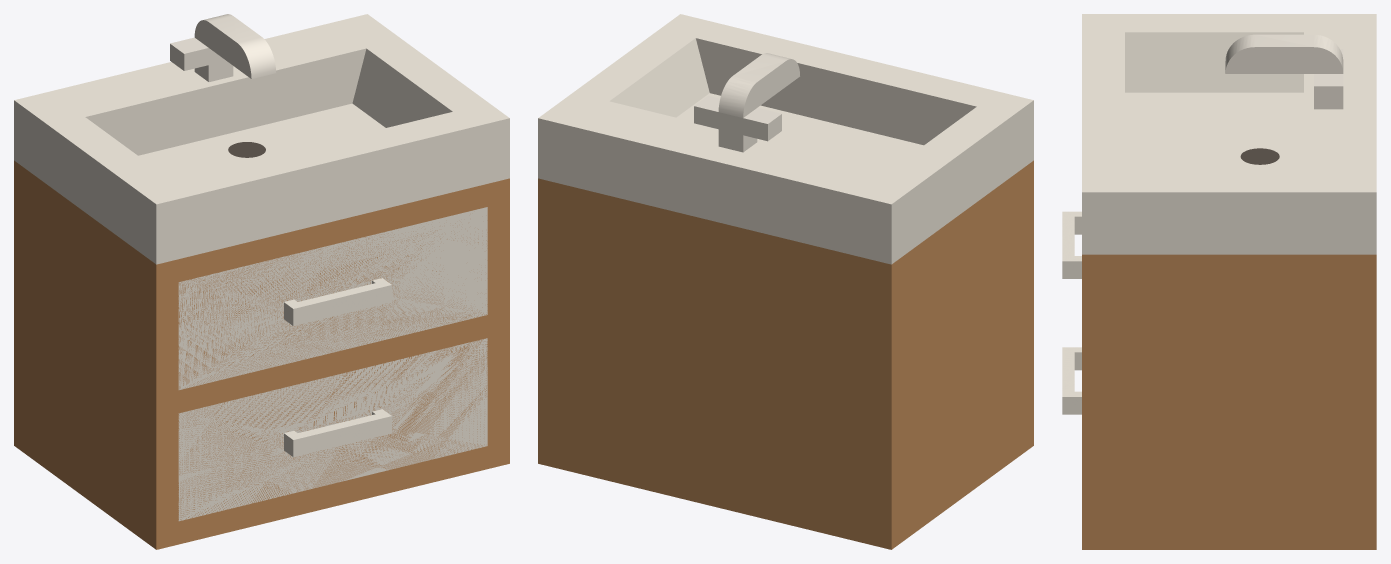
The model's file is kitBathroomCabinetDrawer.glb.
The picture shows the model from 3 angles, left to right: view 1: azimuth 30°, elevation 25°; view 2: azimuth 150°, elevation 25°; view 3: azimuth 270°, elevation 25°; orthographic projection. The views are drawn at different scales.
Visible parts, largest first — view 1: kitBathroomCabinetDrawer_fabricLight, kitBathroomCabinetDrawer_wood, kitBathroomCabinetDrawer_metalLight; view 2: kitBathroomCabinetDrawer_wood, kitBathroomCabinetDrawer_fabricLight, kitBathroomCabinetDrawer_metalLight; view 3: kitBathroomCabinetDrawer_wood, kitBathroomCabinetDrawer_fabricLight, kitBathroomCabinetDrawer_metalLight, kitBathroomCabinetDrawer_metalDark.
Boxes of the visible parts, left/top/right/bottom form: kitBathroomCabinetDrawer_fabricLight: left=14, top=14, right=509, bottom=521; kitBathroomCabinetDrawer_wood: left=14, top=160, right=509, bottom=549; kitBathroomCabinetDrawer_metalLight: left=170, top=14, right=391, bottom=455; kitBathroomCabinetDrawer_wood: left=538, top=160, right=1033, bottom=549; kitBathroomCabinetDrawer_fabricLight: left=538, top=14, right=1033, bottom=264; kitBathroomCabinetDrawer_metalLight: left=694, top=53, right=799, bottom=152; kitBathroomCabinetDrawer_wood: left=1082, top=254, right=1376, bottom=549; kitBathroomCabinetDrawer_fabricLight: left=1062, top=14, right=1376, bottom=414; kitBathroomCabinetDrawer_metalLight: left=1062, top=34, right=1343, bottom=414; kitBathroomCabinetDrawer_metalDark: left=1240, top=148, right=1279, bottom=164.
Size of the model in its own units: 0.86 by 0.9435 by 0.64.
